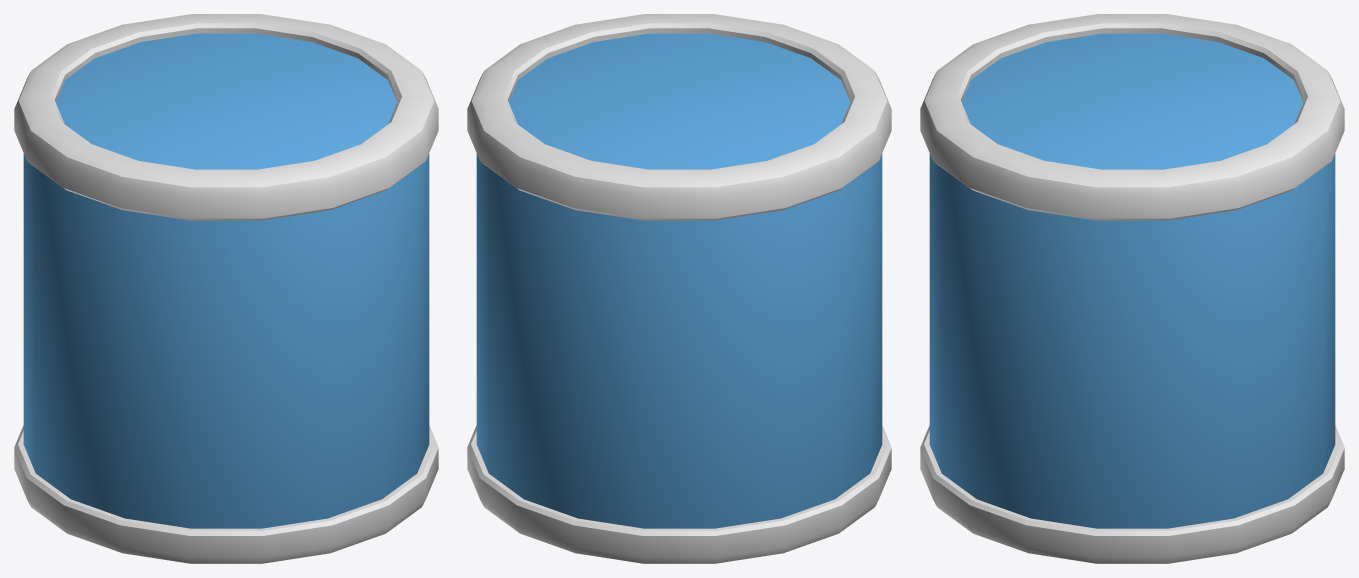
Rendered from int_cylinder.fbx.
The picture shows the model from 3 angles, left to right: view 1: azimuth 30°, elevation 25°; view 2: azimuth 150°, elevation 25°; view 3: azimuth 270°, elevation 25°; orthographic projection.
Visible parts, largest first — view 1: Cylinder; view 2: Cylinder; view 3: Cylinder.
Boxes of the visible parts, x1,y1,x2,y2 form: Cylinder: (14, 14, 438, 563); Cylinder: (467, 14, 891, 563); Cylinder: (920, 14, 1344, 563).
Size of the model in its own units: 103 by 105 by 105.
